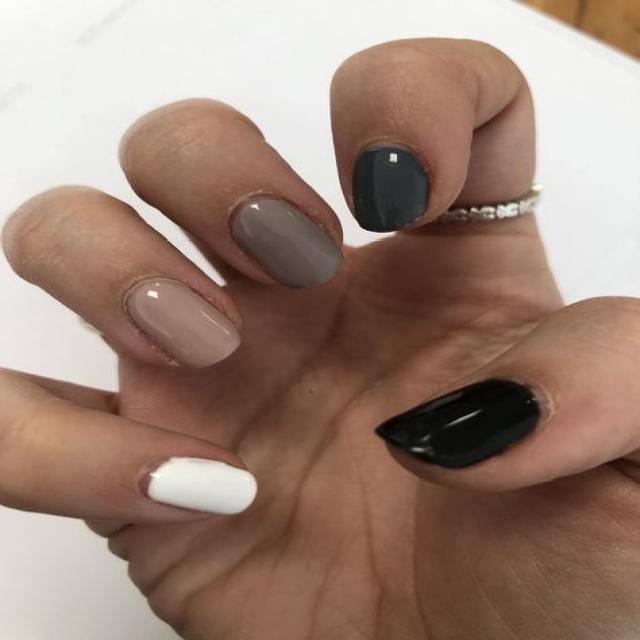Fingernail: (374, 379, 541, 469), (127, 281, 241, 369), (233, 199, 343, 288), (140, 457, 257, 515), (353, 148, 430, 232)
